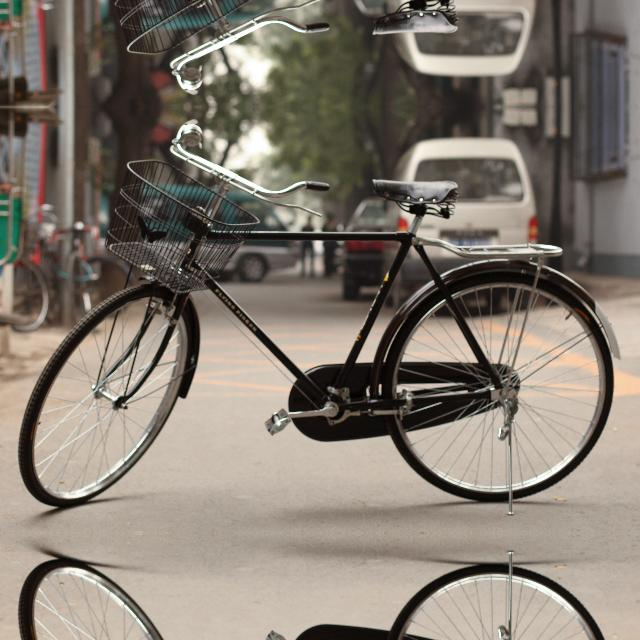obstacle: (22, 116, 620, 524), (22, 542, 620, 640), (22, 0, 620, 95)
